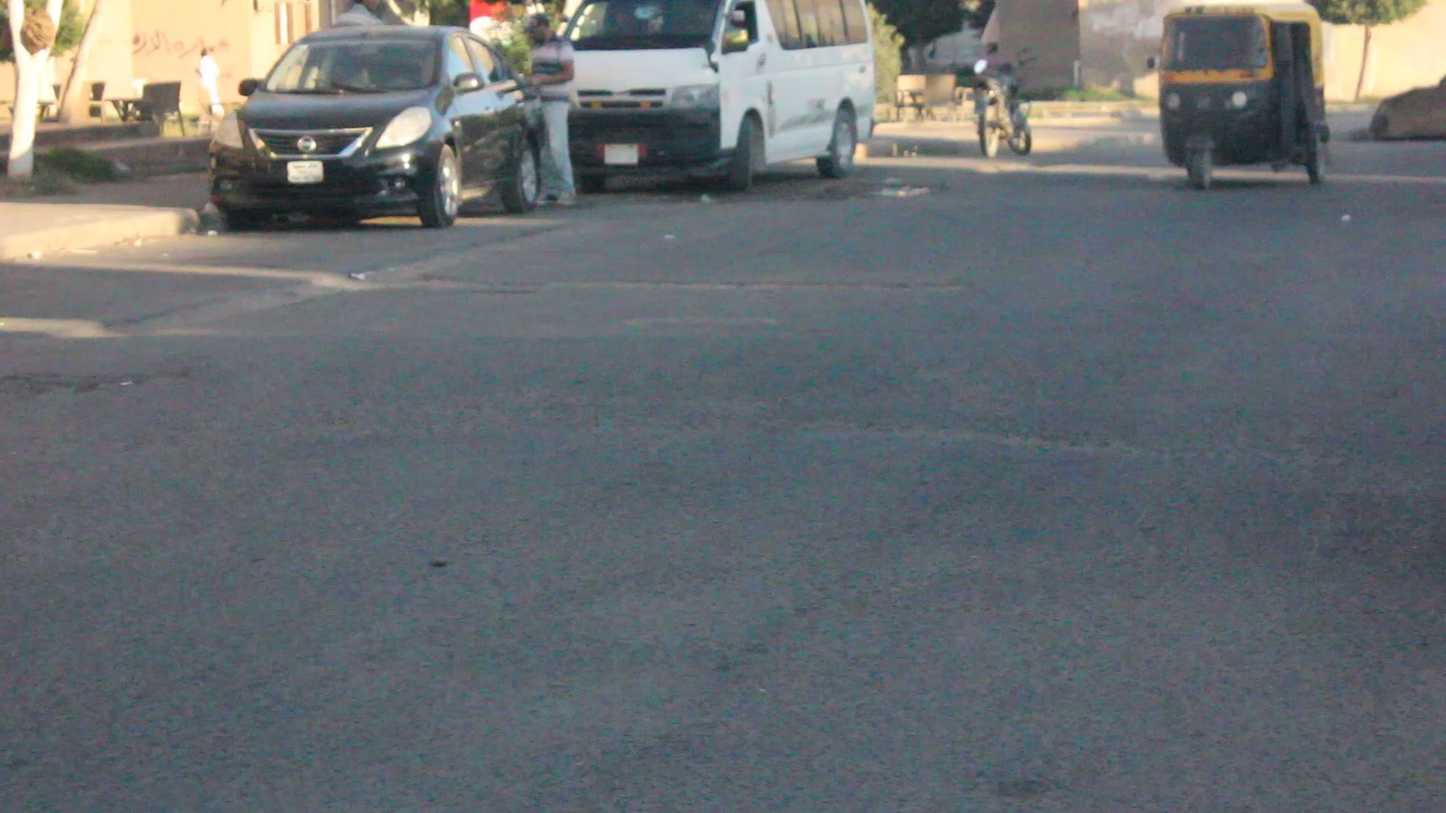Bump: (0, 429, 1446, 670)
Pothole: (810, 390, 1160, 470), (41, 354, 186, 406)
